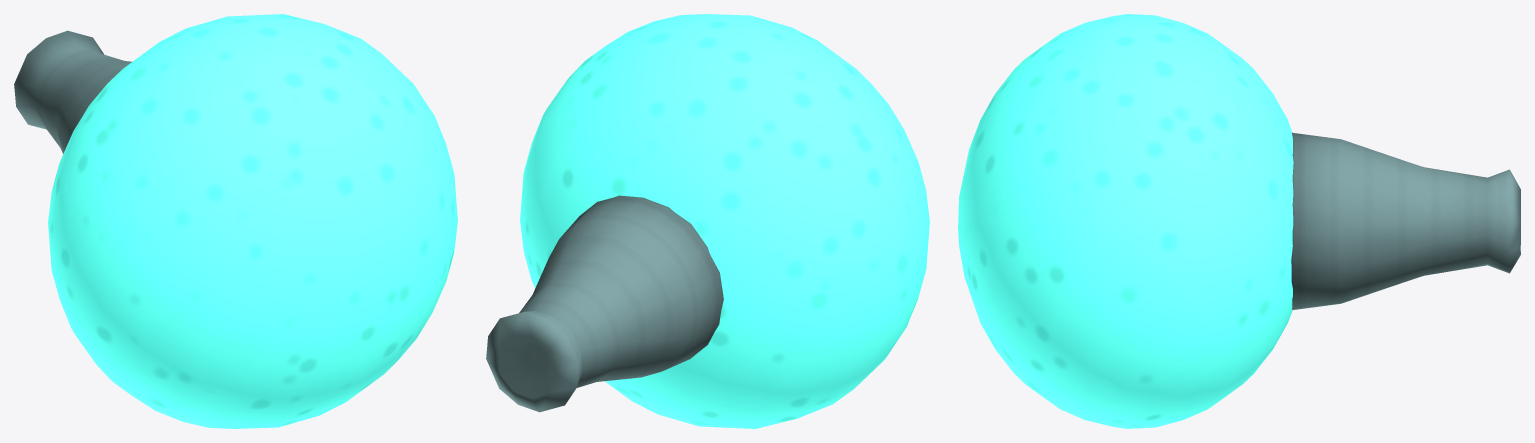
Rendered from part_toxin_gland.glb.
3 renders of one model, left to right at view 1: azimuth 30°, elevation 25°; view 2: azimuth 150°, elevation 25°; view 3: azimuth 270°, elevation 25°, orthographic. The views are drawn at different scales.
Visible parts, largest first — view 1: ToxinGland, Nozzle; view 2: ToxinGland, Nozzle; view 3: ToxinGland, Nozzle.
Part boxes in pixels (x1,y1,x2,y2): ToxinGland: (48, 14, 457, 428); Nozzle: (14, 30, 131, 153); ToxinGland: (520, 14, 929, 428); Nozzle: (486, 195, 723, 412); ToxinGland: (958, 14, 1293, 428); Nozzle: (1291, 132, 1520, 309).
Size of the model in its own units: 0.15 by 0.1497 by 0.2038.
Materials: 2 (2 with a texture image).
